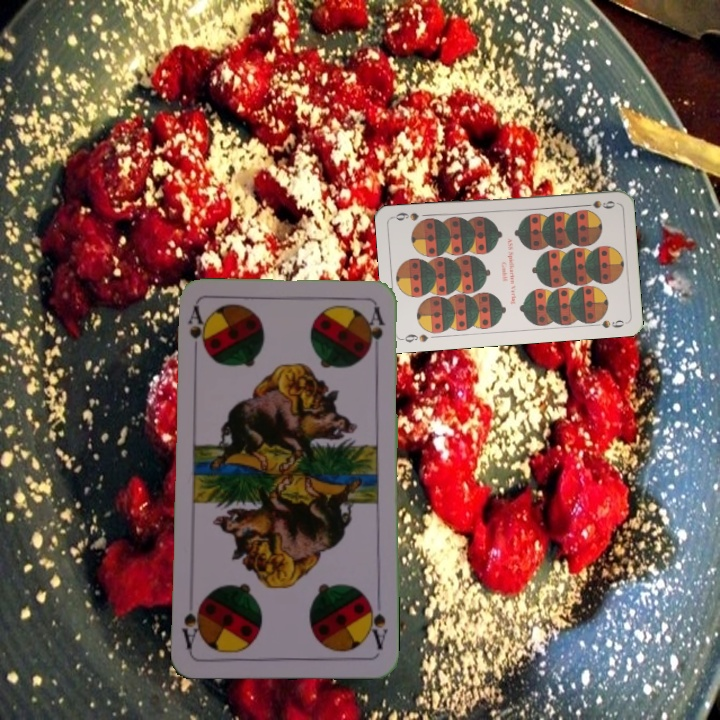S9: (577, 196, 617, 211), (398, 330, 431, 345)
SA: (364, 594, 391, 652), (184, 303, 206, 362)
